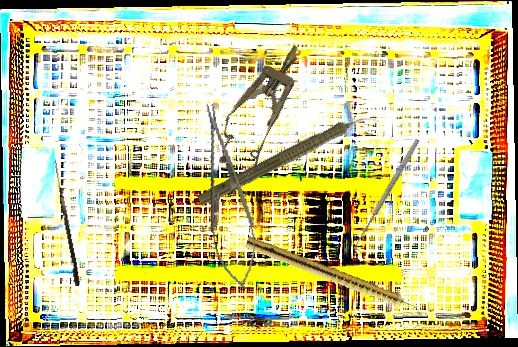Handpiece: (195, 103, 381, 214), (243, 235, 425, 319)
Hook Surgical: (351, 137, 425, 253), (48, 158, 83, 287)
Needle Holder: (188, 100, 266, 293)
Speculum: (205, 33, 320, 182)
